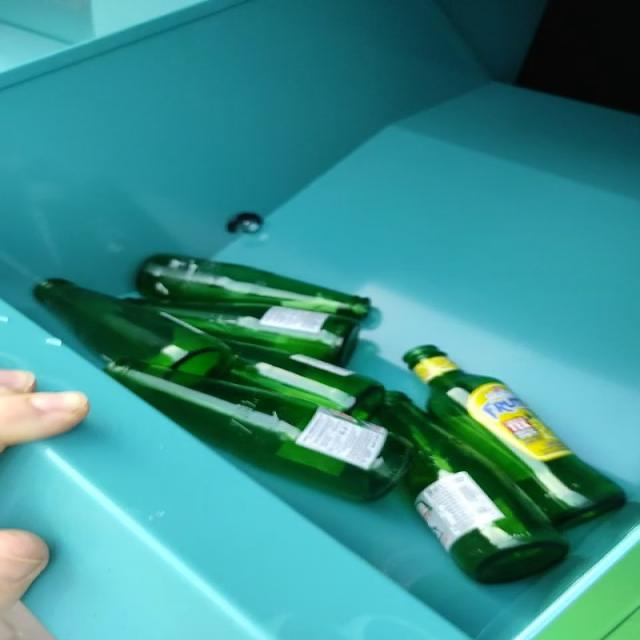glass: (35, 256, 627, 584)
